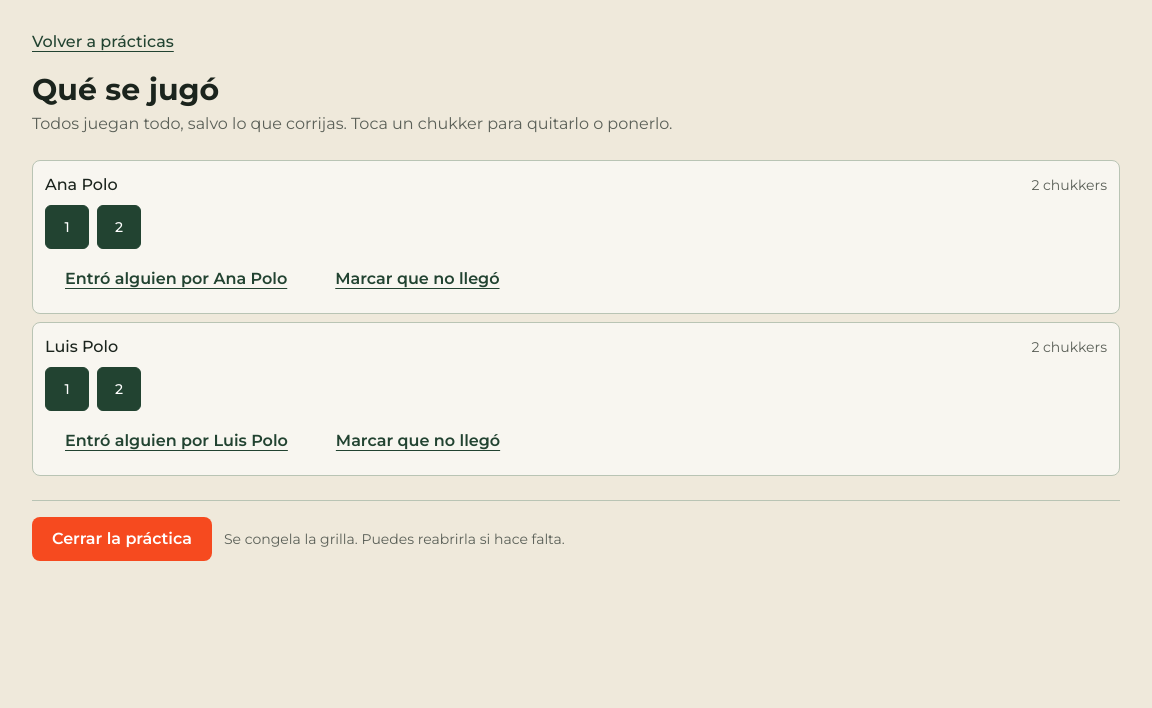
Test case: La sustitución (T-732) › no se ofrece sustituir a alguien por sí mismo
Click the button "Entró alguien por Ana Polo" at point(176, 279), box left=45, top=257, right=307, bottom=301
(page scrolled)
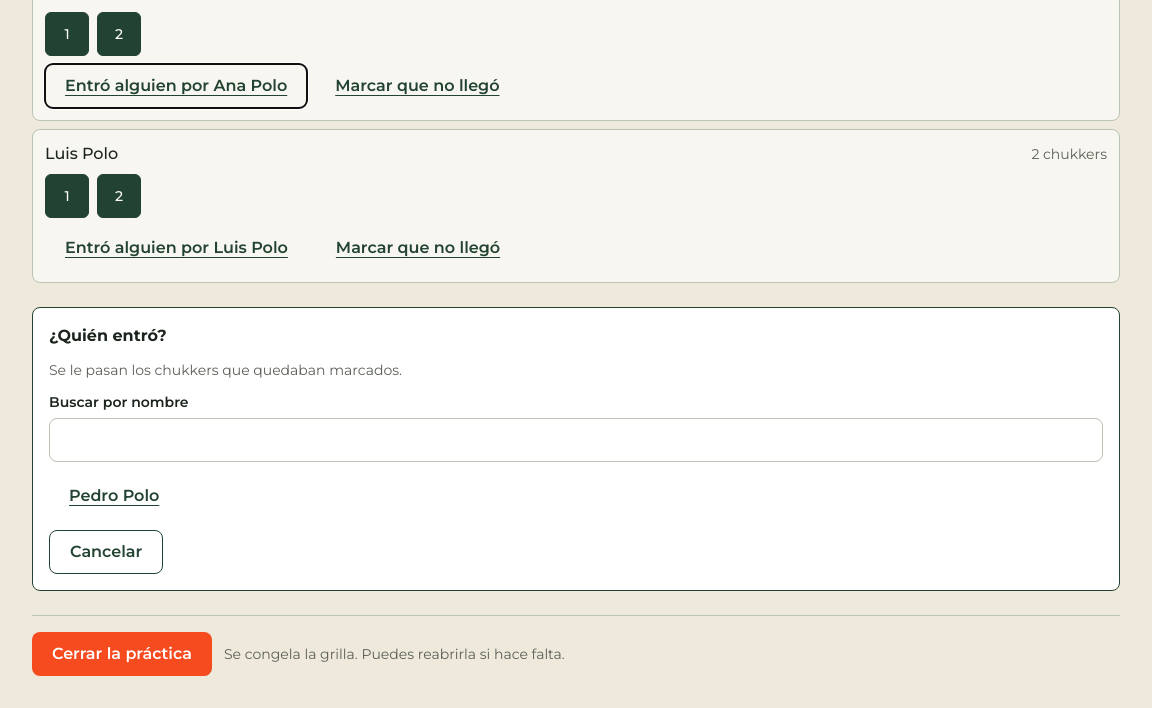
Now the button "Pedro Polo" is shown, box left=49, top=474, right=179, bottom=518
